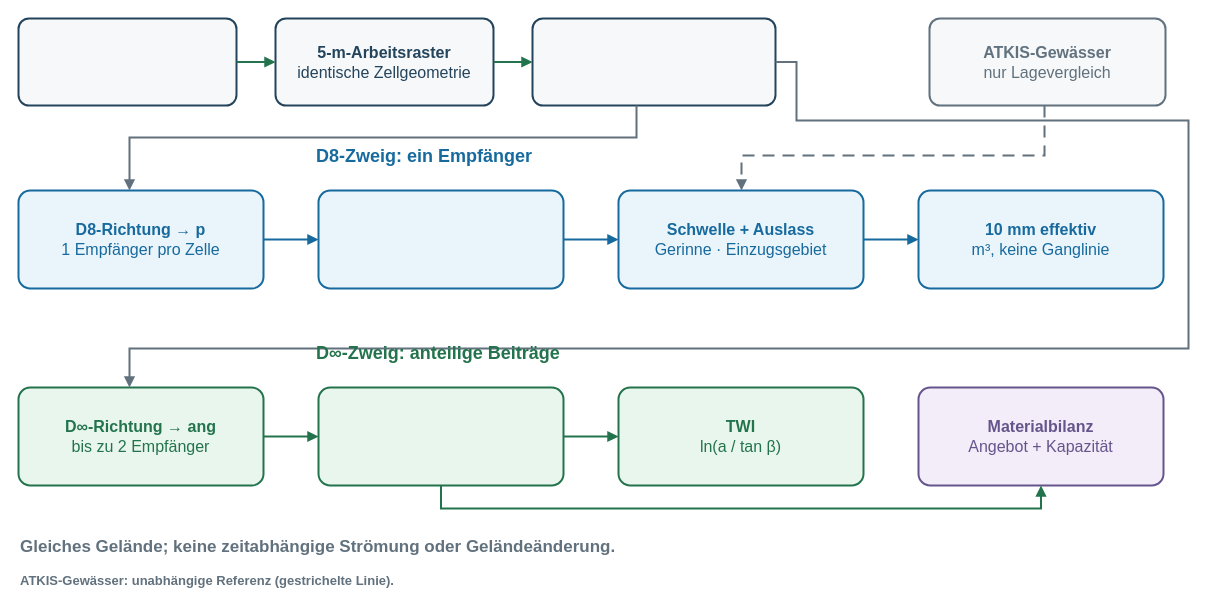
This 1214x606 diagram has some shape labels left out. The centre of each missing label's shape, as x and y in pixels:
AreaD8 → ad8 Anzahl Zellen → m²: point (440, 239)
AreaDinf → sca m²/m = m: point (440, 436)
DGM1: Höhe (m) amtliches Raster: point (127, 61)
Pit Remove → fel Senkenbehandlung: point (653, 61)
